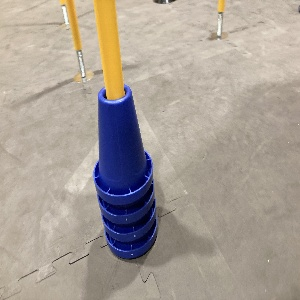Blue_4: (93, 83, 157, 260)
